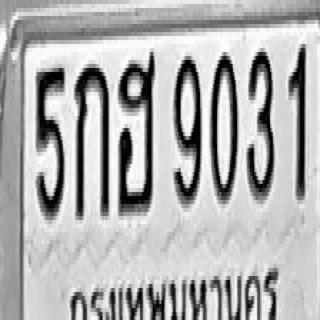A01: (74, 58, 109, 218)
A44: (117, 48, 156, 212)
N00: (209, 48, 238, 204)
N01: (287, 40, 306, 200)
N03: (246, 46, 274, 198)
N05: (35, 62, 65, 218)
N09: (173, 52, 202, 204)
